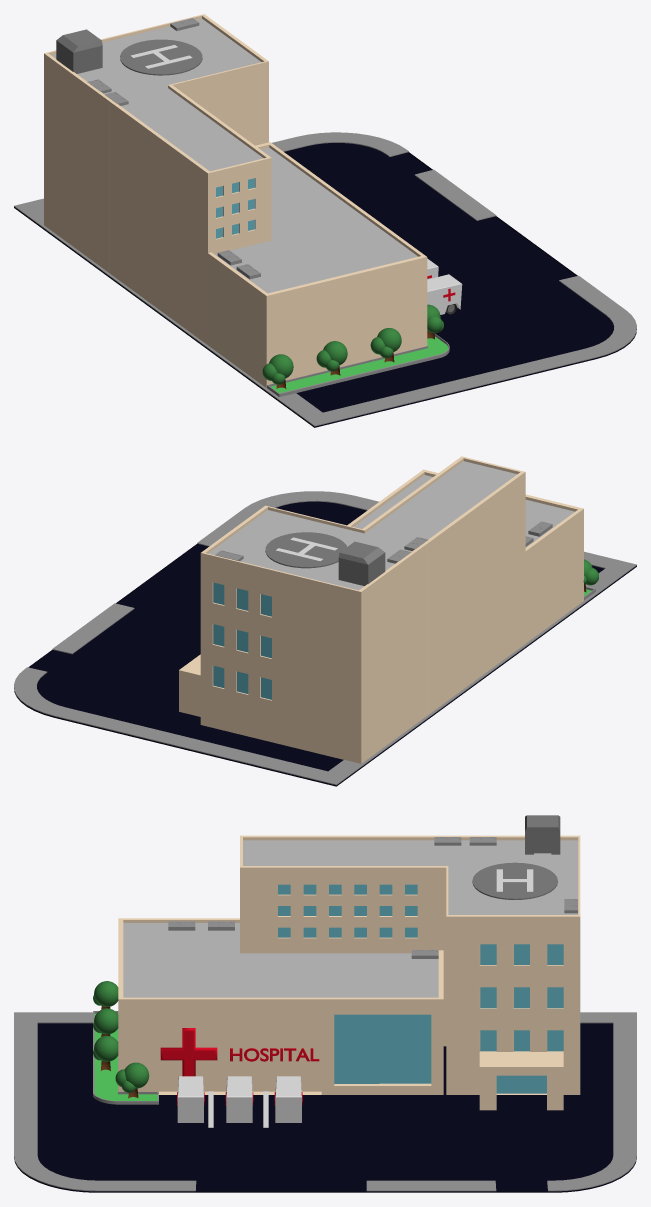
File: New Hospital.fbx
3 views of the same model, one above another, from view 1: azimuth 30°, elevation 25°; view 2: azimuth 150°, elevation 25°; view 3: azimuth 270°, elevation 25° (orthographic). The views are drawn at different scales.
Visible parts, largest first — view 1: Cube_Cube.001, Cube.001, Cube.002, Cube.011_Cube.003, Cylinder.002, Circle, Cube.009_Cube.002, Text.002_HOSPITAL.002, Cube.007_Cube.008, Cube.001_Cube.005; view 2: Cube_Cube.001, Cube.001, Cube.002, Circle, Cube.001_Cube.005, Cube.009_Cube.002, Cube.007_Cube.008; view 3: Cube_Cube.001, Cube.001, Cube.002, Cube.001_Cube.005, Text.002_HOSPITAL.002, Cylinder.002, Circle, Text_HOSPITAL, Cube.011_Cube.003, Cube.007_Cube.008, Cube.009_Cube.002, Cube.003_Cube.007.
Part boxes in pixels (box(x1,y1,x2,y2)): Cube_Cube.001: box(44, 14, 427, 387); Cube.001: box(14, 143, 636, 427); Cube.002: box(14, 132, 636, 426); Cube.011_Cube.003: box(267, 333, 449, 396); Cylinder.002: box(262, 304, 443, 388); Circle: box(120, 39, 202, 75); Cube.009_Cube.002: box(56, 29, 102, 73); Text.002_HOSPITAL.002: box(427, 258, 462, 314); Cube.007_Cube.008: box(87, 18, 260, 279); Cube.001_Cube.005: box(216, 178, 254, 238); Cube_Cube.001: box(179, 456, 583, 763); Cube.001: box(14, 501, 636, 786); Cube.002: box(14, 491, 636, 785); Circle: box(265, 532, 346, 568); Cube.001_Cube.005: box(213, 582, 271, 699); Cube.009_Cube.002: box(338, 541, 385, 585); Cube.007_Cube.008: box(215, 521, 552, 563); Cube_Cube.001: box(118, 835, 580, 1110); Cube.001: box(14, 1023, 636, 1192); Cube.002: box(14, 1012, 636, 1191); Cube.001_Cube.005: box(278, 884, 563, 1083); Text.002_HOSPITAL.002: box(177, 1076, 302, 1122); Cylinder.002: box(93, 981, 149, 1098); Circle: box(472, 862, 557, 899); Text_HOSPITAL: box(160, 1028, 319, 1076); Cube.011_Cube.003: box(93, 1011, 158, 1104); Cube.007_Cube.008: box(168, 837, 577, 958); Cube.009_Cube.002: box(525, 815, 560, 854); Cube.003_Cube.007: box(496, 1075, 546, 1093).
Bounding box in the file's own units: 132 × 69.93 × 193.
